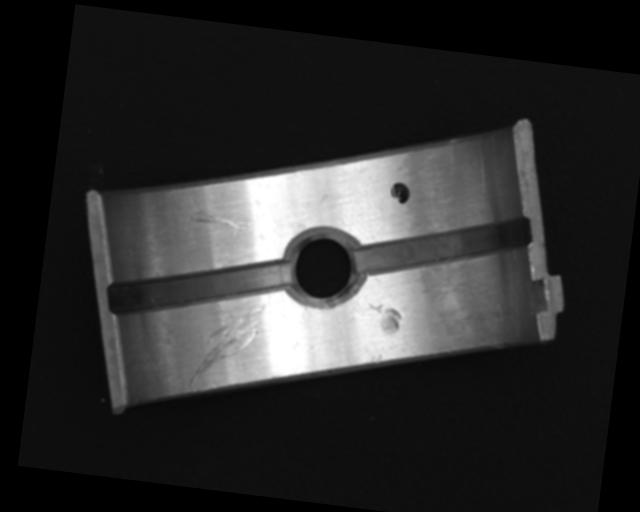blot: (388, 180, 412, 206)
bruise: (365, 303, 402, 336), (364, 350, 384, 365)
gap: (105, 241, 293, 336), (354, 195, 532, 293)
hole: (281, 222, 363, 310)
nick: (190, 293, 268, 394), (188, 209, 251, 233)
